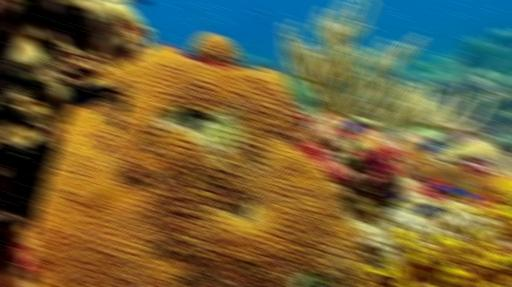Fish: (68, 83, 111, 106), (419, 138, 448, 153), (414, 203, 443, 217), (344, 120, 365, 134), (441, 185, 460, 195), (416, 172, 429, 185), (462, 190, 477, 199), (391, 194, 404, 200), (133, 0, 150, 3)
